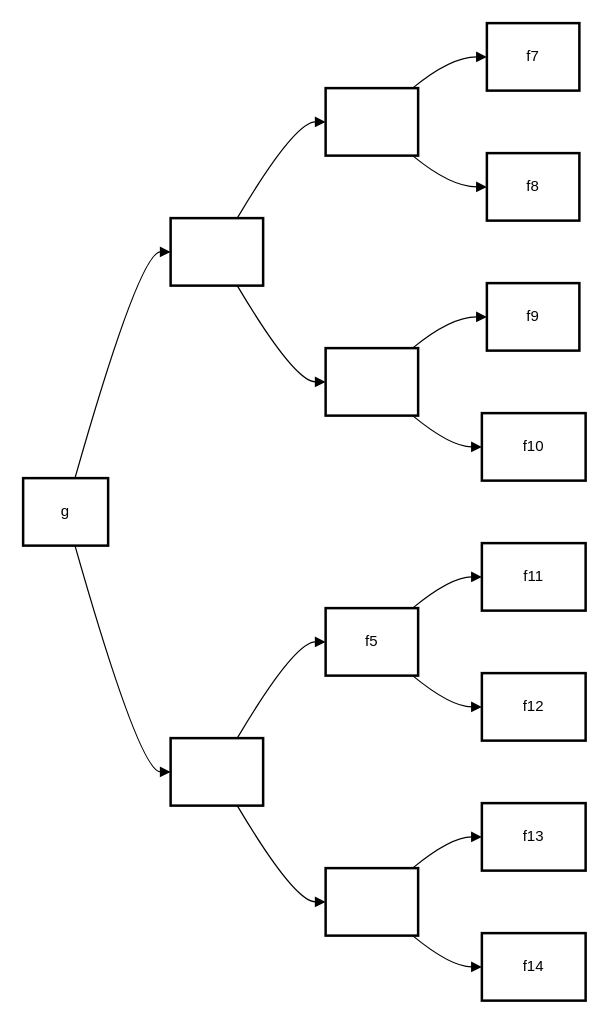
The diagram is 608 pixels wide and 1023 high, and some of its shapes have lost their labels. Here are the shapes that lost their labels. From the top down, the centre of each, then its label:
At (371,121): "f3".
At (216,251): "f1".
At (371,381): "f4".
At (216,771): "f2".
At (371,901): "f6".
